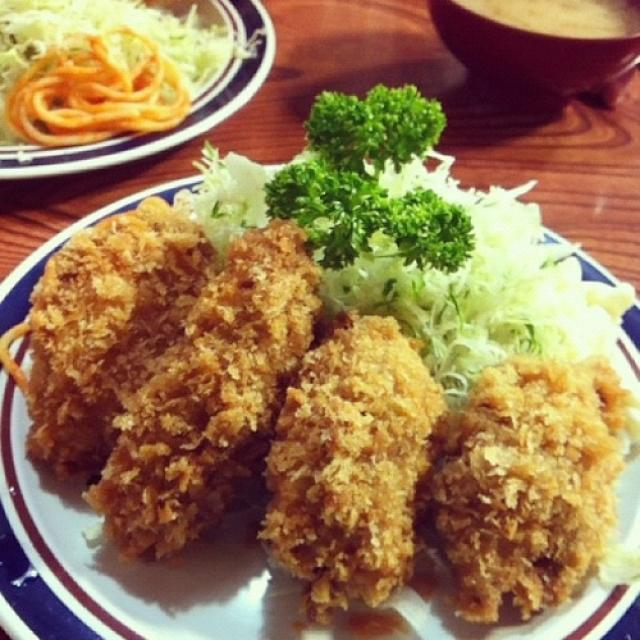牛肉菜式: (15, 165, 626, 623)
